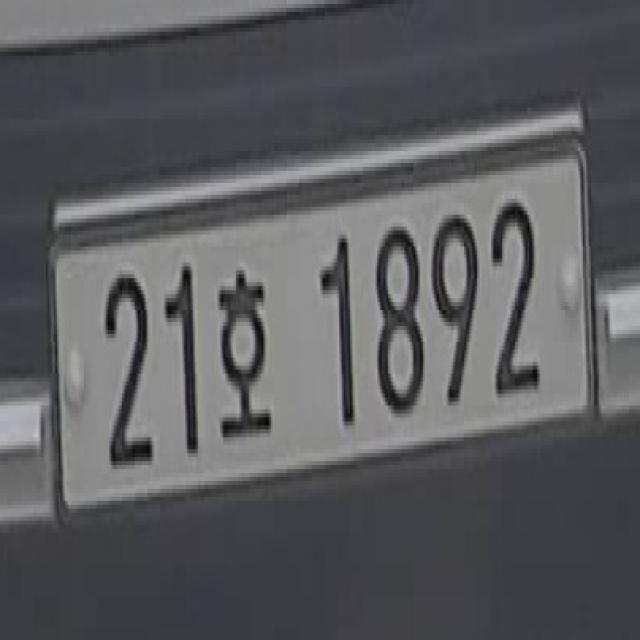1: (161, 237, 211, 474), (312, 220, 364, 444)
2: (486, 175, 554, 415), (95, 254, 162, 485)
8: (368, 204, 430, 434)
9: (429, 194, 480, 427)
ho: (214, 232, 286, 465)
license_plate: (53, 141, 593, 516)
